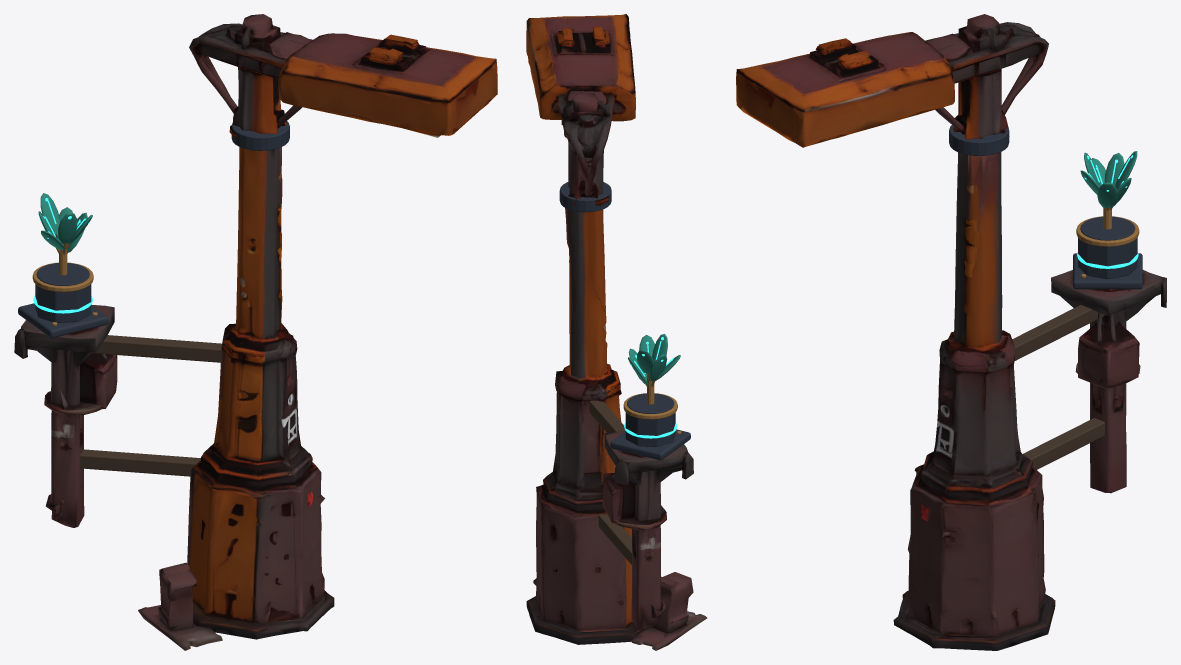
The model's file is 08_street_lamp.glb.
The picture shows the model from 3 angles, left to right: view 1: azimuth 30°, elevation 25°; view 2: azimuth 150°, elevation 25°; view 3: azimuth 270°, elevation 25°; orthographic projection. The views are drawn at different scales.
Parts seen in each view (by area): view 1: tripo_node_b369cdad-33bf-4cea-916a-42822d021d60, LOCAL_lamp_control_box_bracket.001, LOCAL_lamp_control_box_bracket, LOCAL_electronic_planter, LOCAL_planter_mount_plate, LOCAL_lamp_swivel_collar, LOCAL_planter_substrate; view 2: tripo_node_b369cdad-33bf-4cea-916a-42822d021d60, LOCAL_electronic_planter, LOCAL_planter_mount_plate, LOCAL_lamp_swivel_collar, LOCAL_lamp_control_box_bracket, LOCAL_planter_substrate, LOCAL_lamp_control_box_bracket.001, LOCAL_planter_upper_rim, LOCAL_circuit_leaf.005, LOCAL_circuit_leaf.004; view 3: tripo_node_b369cdad-33bf-4cea-916a-42822d021d60, LOCAL_lamp_control_box_bracket.001, LOCAL_electronic_planter, LOCAL_lamp_control_box_bracket, LOCAL_planter_mount_plate, LOCAL_lamp_swivel_collar, LOCAL_planter_substrate.
Boxes of the visible parts, x1,y1,x2,y2 form: tripo_node_b369cdad-33bf-4cea-916a-42822d021d60: [14, 14, 497, 650]; LOCAL_lamp_control_box_bracket.001: [92, 335, 221, 362]; LOCAL_lamp_control_box_bracket: [80, 449, 200, 476]; LOCAL_electronic_planter: [35, 284, 91, 322]; LOCAL_planter_mount_plate: [18, 303, 108, 337]; LOCAL_lamp_swivel_collar: [231, 121, 289, 150]; LOCAL_planter_substrate: [36, 263, 89, 285]; tripo_node_b369cdad-33bf-4cea-916a-42822d021d60: [526, 14, 707, 650]; LOCAL_electronic_planter: [625, 412, 675, 446]; LOCAL_planter_mount_plate: [610, 429, 690, 460]; LOCAL_lamp_swivel_collar: [559, 182, 611, 212]; LOCAL_lamp_control_box_bracket: [598, 514, 631, 564]; LOCAL_planter_substrate: [627, 393, 674, 413]; LOCAL_lamp_control_box_bracket.001: [589, 400, 625, 432]; LOCAL_planter_upper_rim: [623, 393, 677, 419]; LOCAL_circuit_leaf.005: [637, 350, 654, 374]; LOCAL_circuit_leaf.004: [649, 354, 667, 381]; tripo_node_b369cdad-33bf-4cea-916a-42822d021d60: [736, 14, 1166, 650]; LOCAL_lamp_control_box_bracket.001: [1012, 305, 1104, 361]; LOCAL_electronic_planter: [1078, 238, 1137, 279]; LOCAL_lamp_control_box_bracket: [1022, 418, 1104, 469]; LOCAL_planter_mount_plate: [1073, 253, 1142, 289]; LOCAL_lamp_swivel_collar: [949, 125, 1009, 155]; LOCAL_planter_substrate: [1080, 216, 1135, 240].
Size of the model in its own units: 1.64 by 2.8 by 1.79.
6 materials, 1 textured.
